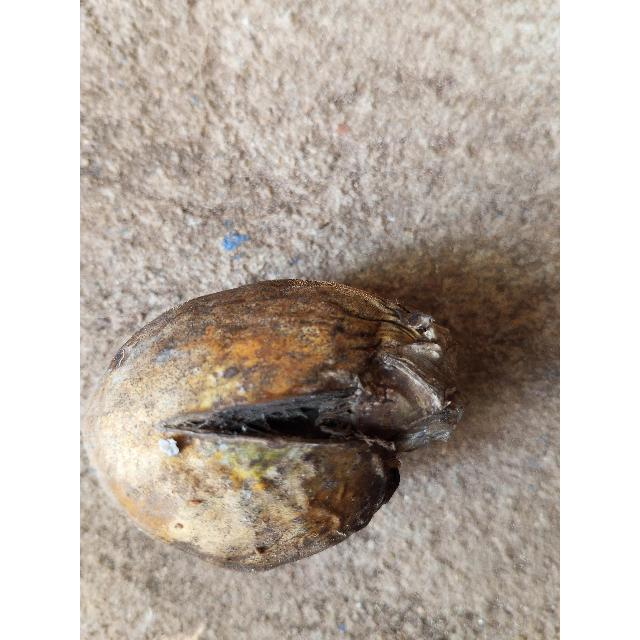damaged: (93, 279, 463, 572)
